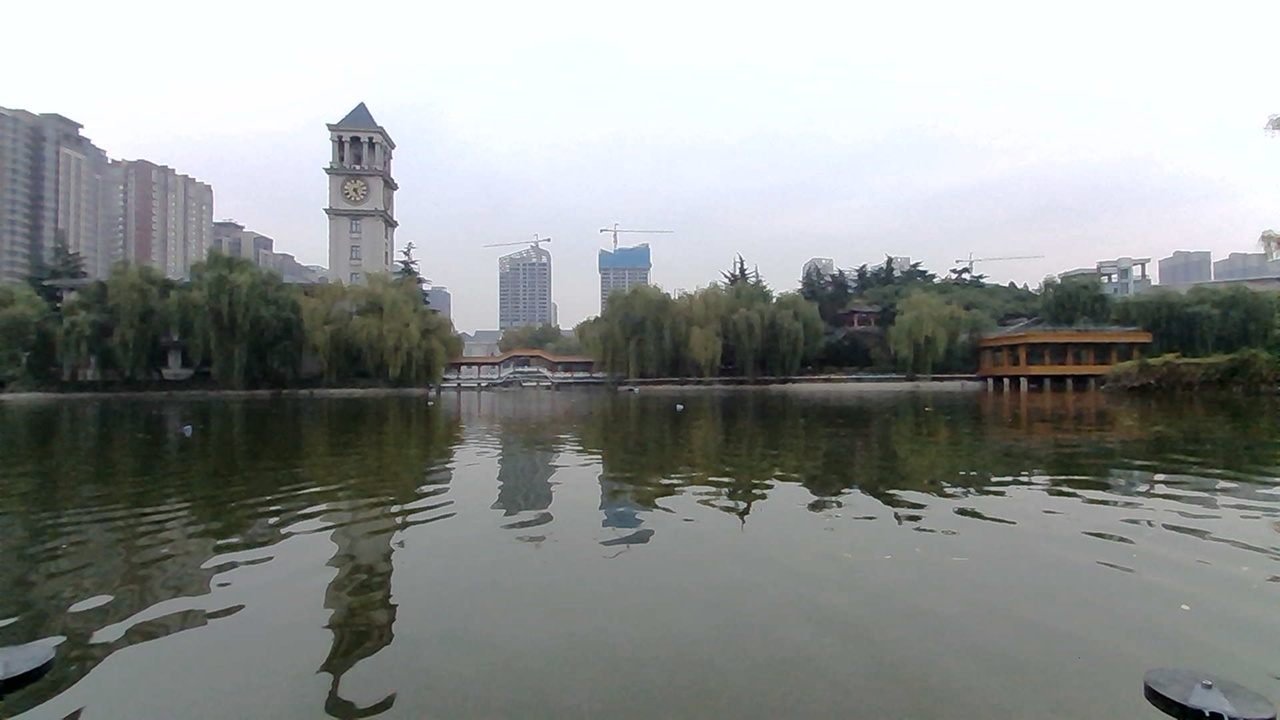bottle: (654, 395, 697, 419), (171, 417, 205, 439)
